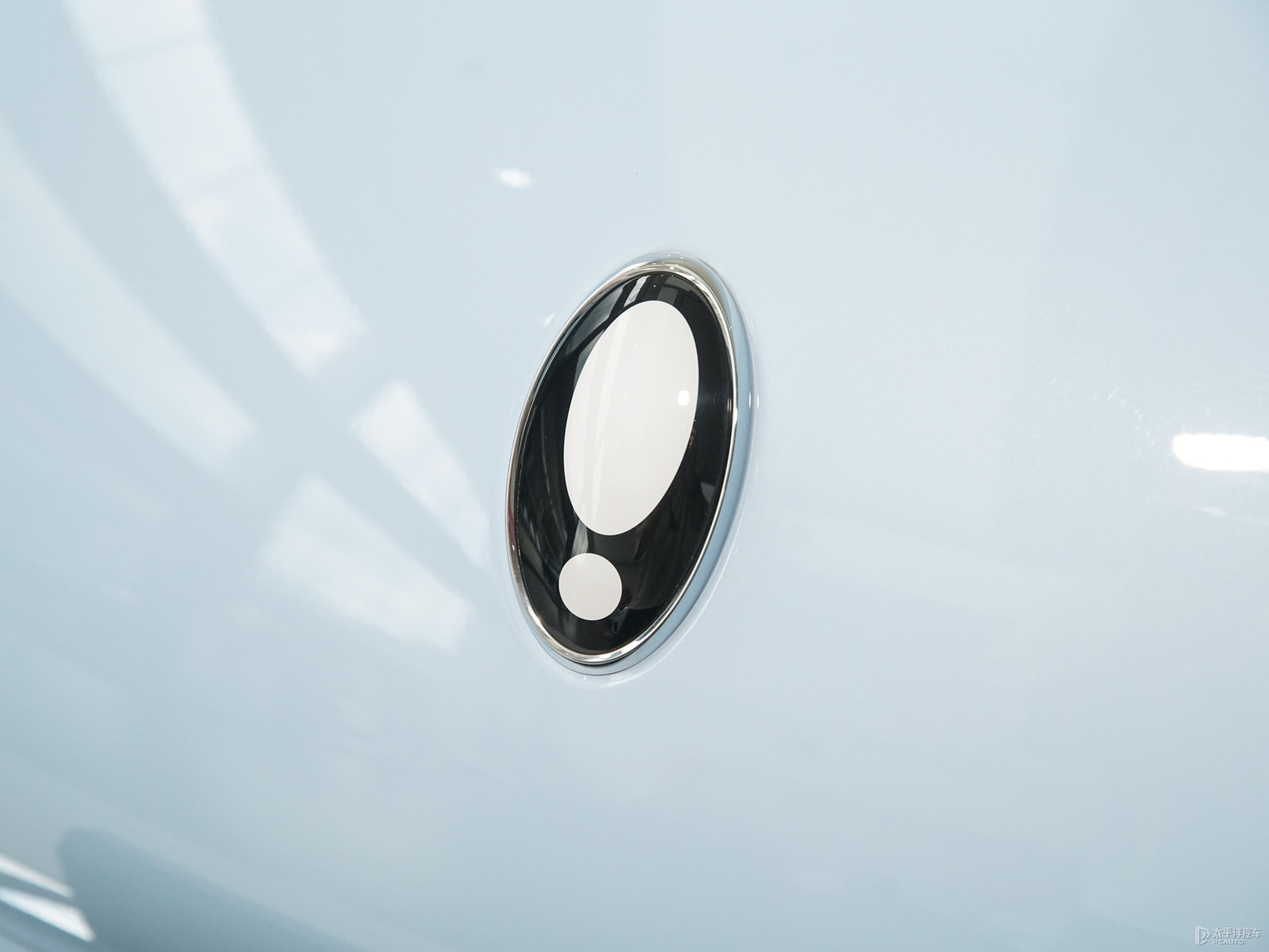ORA: (505, 253, 751, 674)
